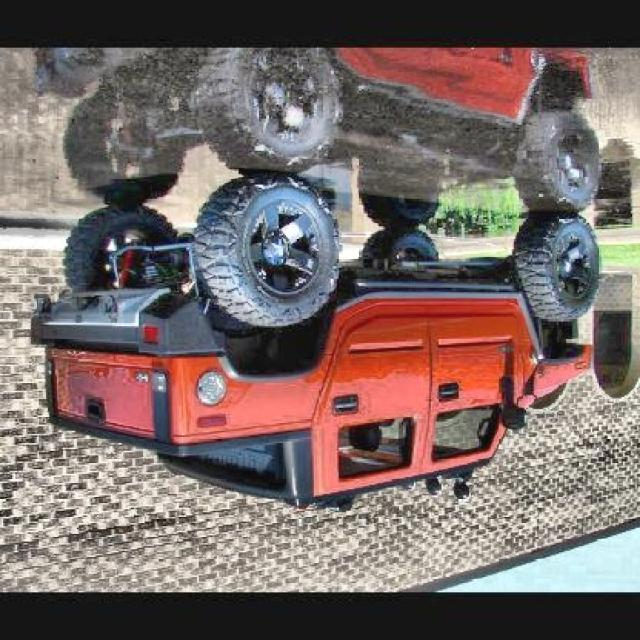red: (32, 170, 599, 509)
